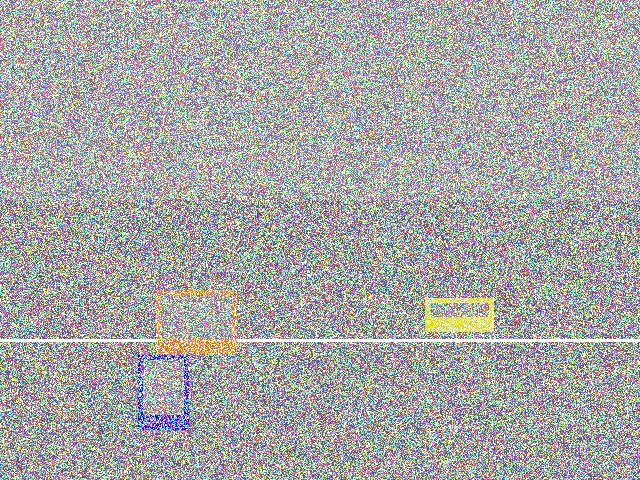motorcycle: (445, 180, 546, 264)
truck: (296, 256, 438, 360)
